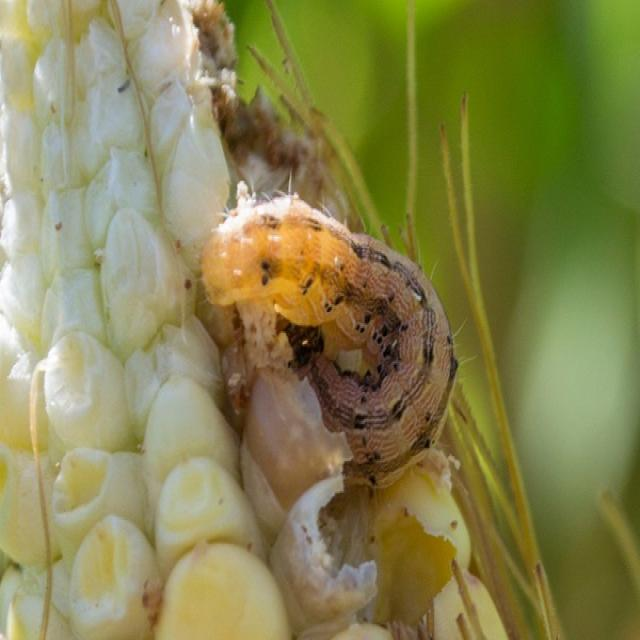Fall-armyworm: (199, 198, 459, 487)
